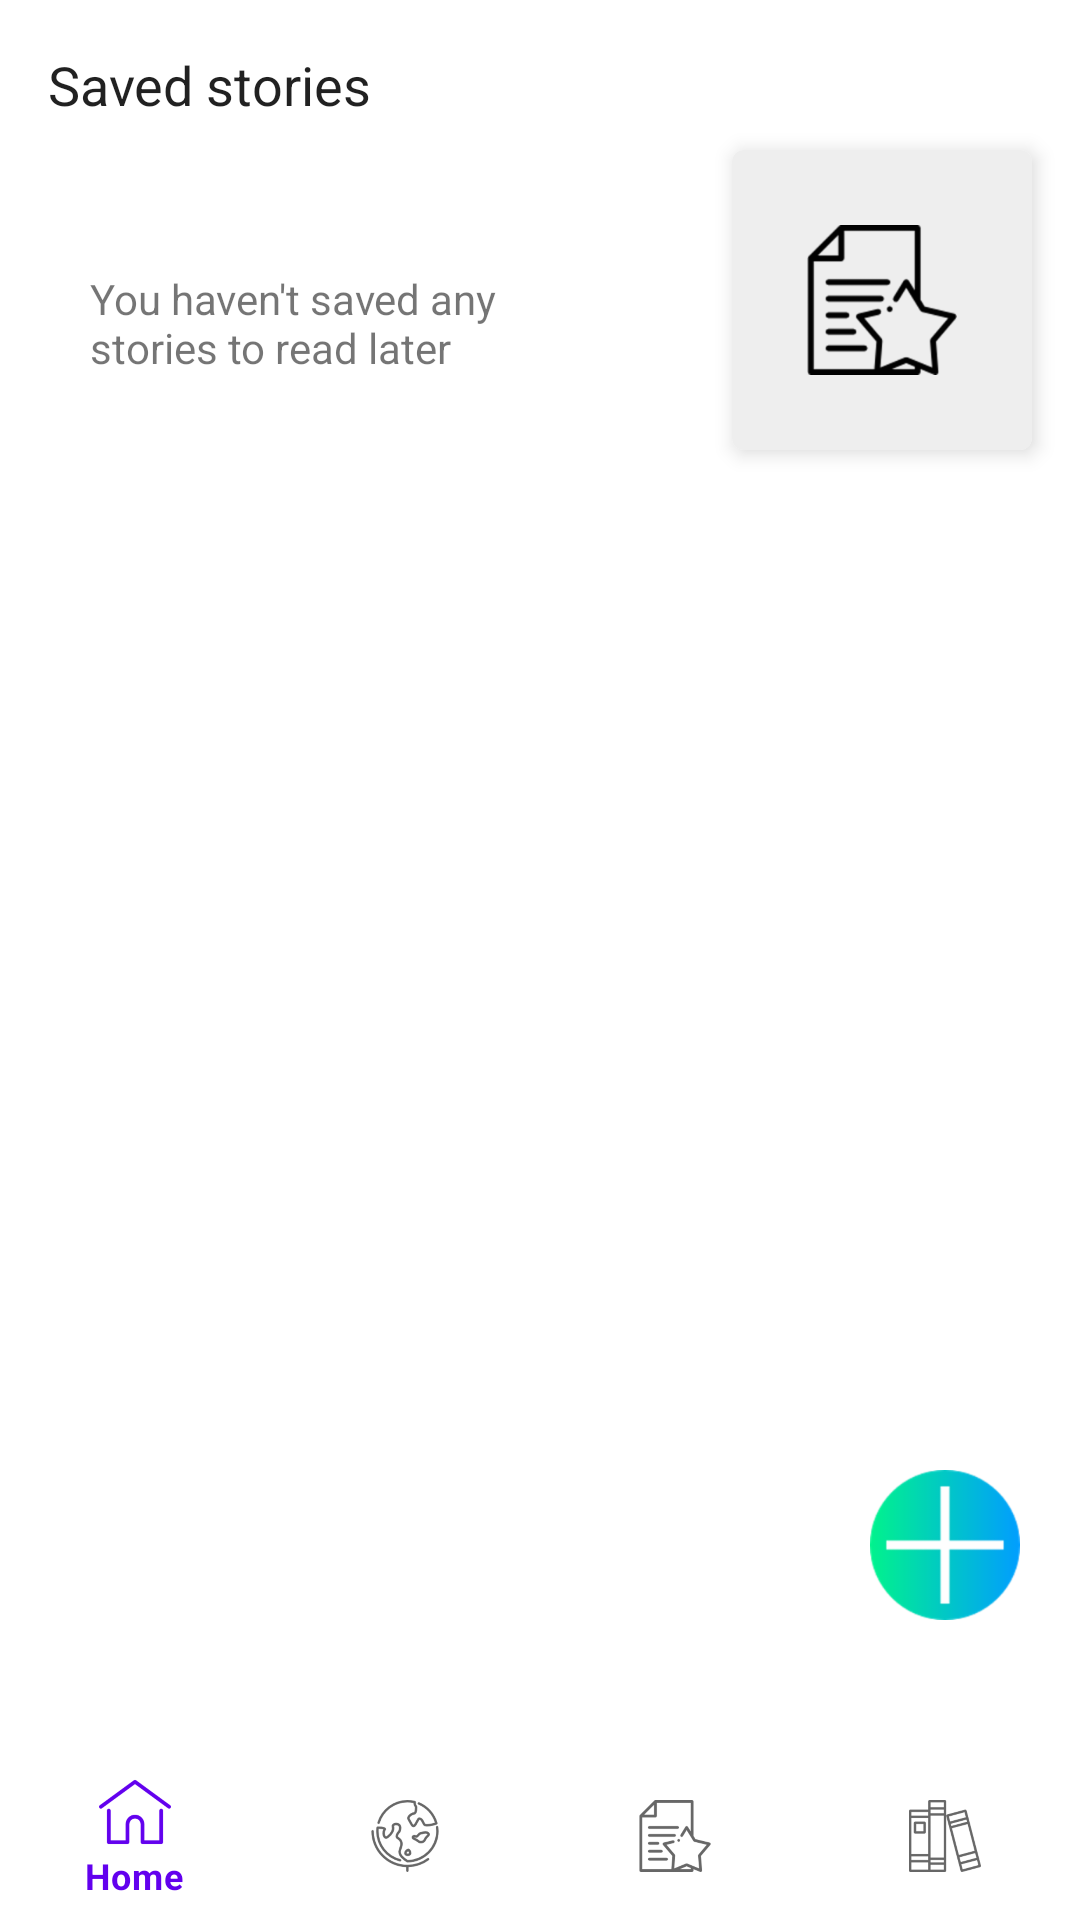

Icon click points for this 1080px×1920px phone screenshot, format (x,y):
favorite: (882,300)
plus: (945,1545)
